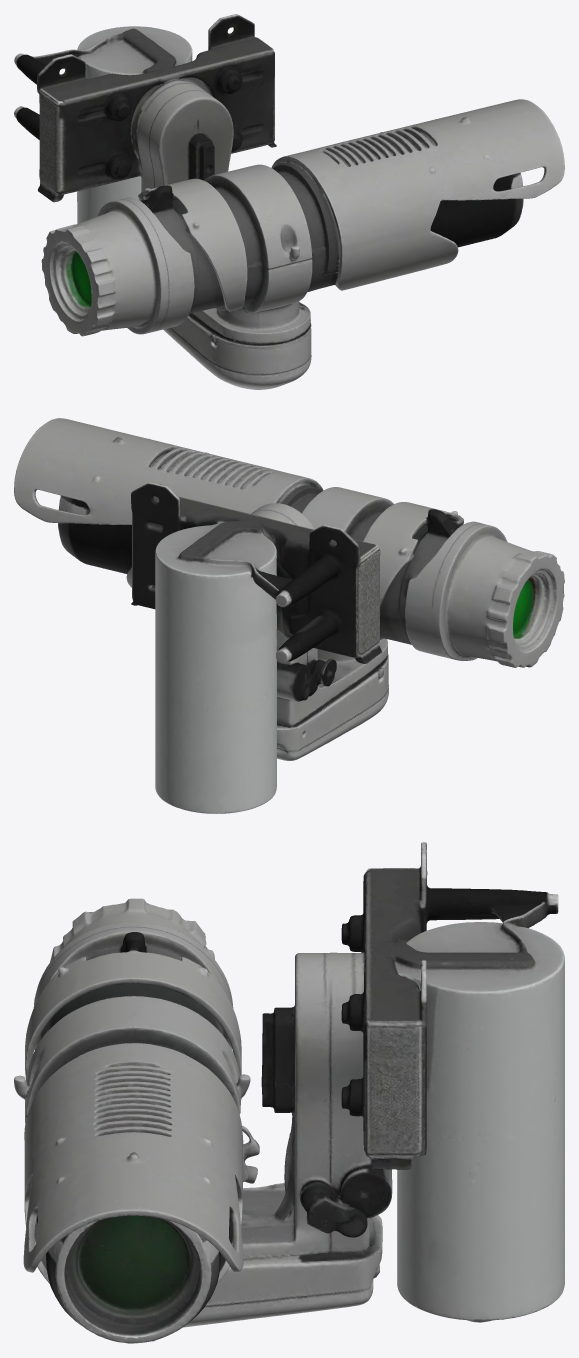
Rendered from laser.glb.
3 views of the same model, one above another, from view 1: azimuth 30°, elevation 25°; view 2: azimuth 150°, elevation 25°; view 3: azimuth 270°, elevation 25° (orthographic). The views are drawn at different scales.
Bounding box in the file's own units: 1.9 × 1.07 × 1.33.
Materials: 1 (1 with a texture image).
